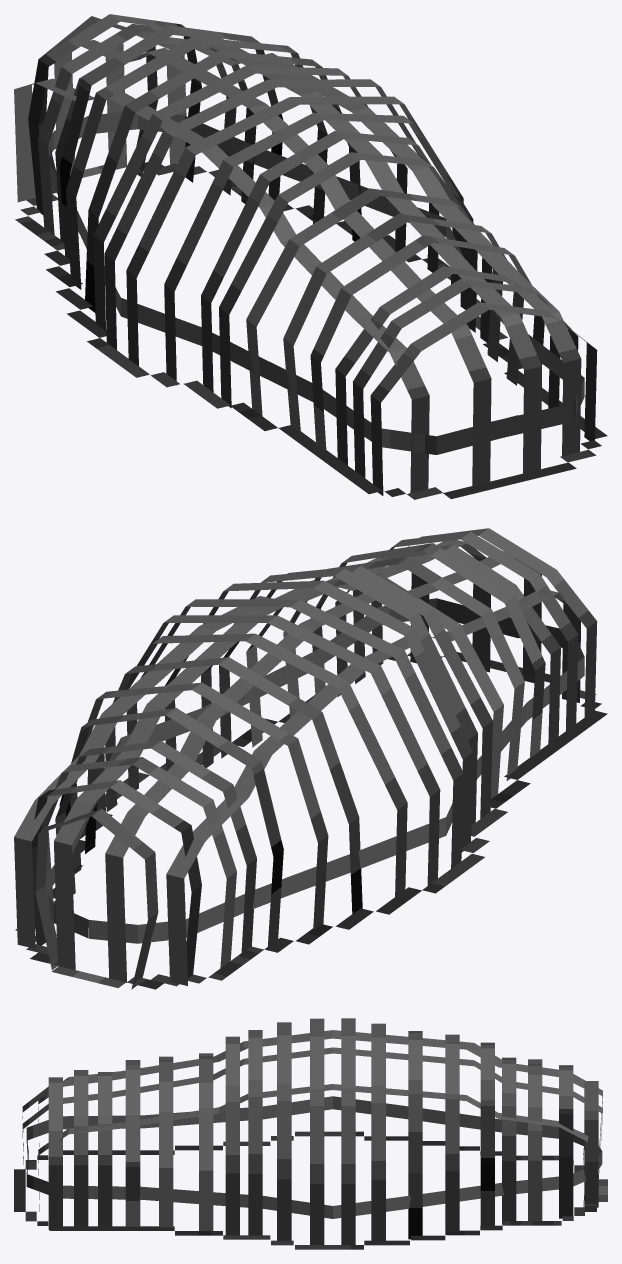
Rendered from soulcage_747x1.gltf.
3 renders of one model, top to bottom at view 1: azimuth 30°, elevation 25°; view 2: azimuth 150°, elevation 25°; view 3: azimuth 270°, elevation 25°, orthographic. The views are drawn at different scales.
Visible parts, largest first — view 1: soulcage_747x1.001; view 2: soulcage_747x1.001; view 3: soulcage_747x1.001.
Part boxes in pixels (x1=…): soulcage_747x1.001: x1=14, y1=14, x2=607, y2=499; soulcage_747x1.001: x1=14, y1=528, x2=607, y2=989; soulcage_747x1.001: x1=14, y1=1018, x2=607, y2=1249.
Size of the model in its own units: 2.61 by 1.64 by 5.56.
1 material, 1 textured.
